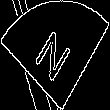N_SW: (32, 22, 78, 88)
